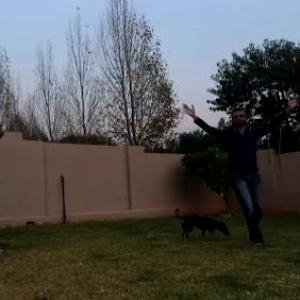takeoff: (183, 95, 299, 251)
